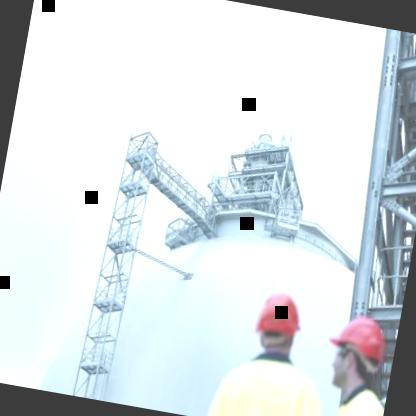helmet: (320, 308, 394, 394), (245, 280, 310, 366)
